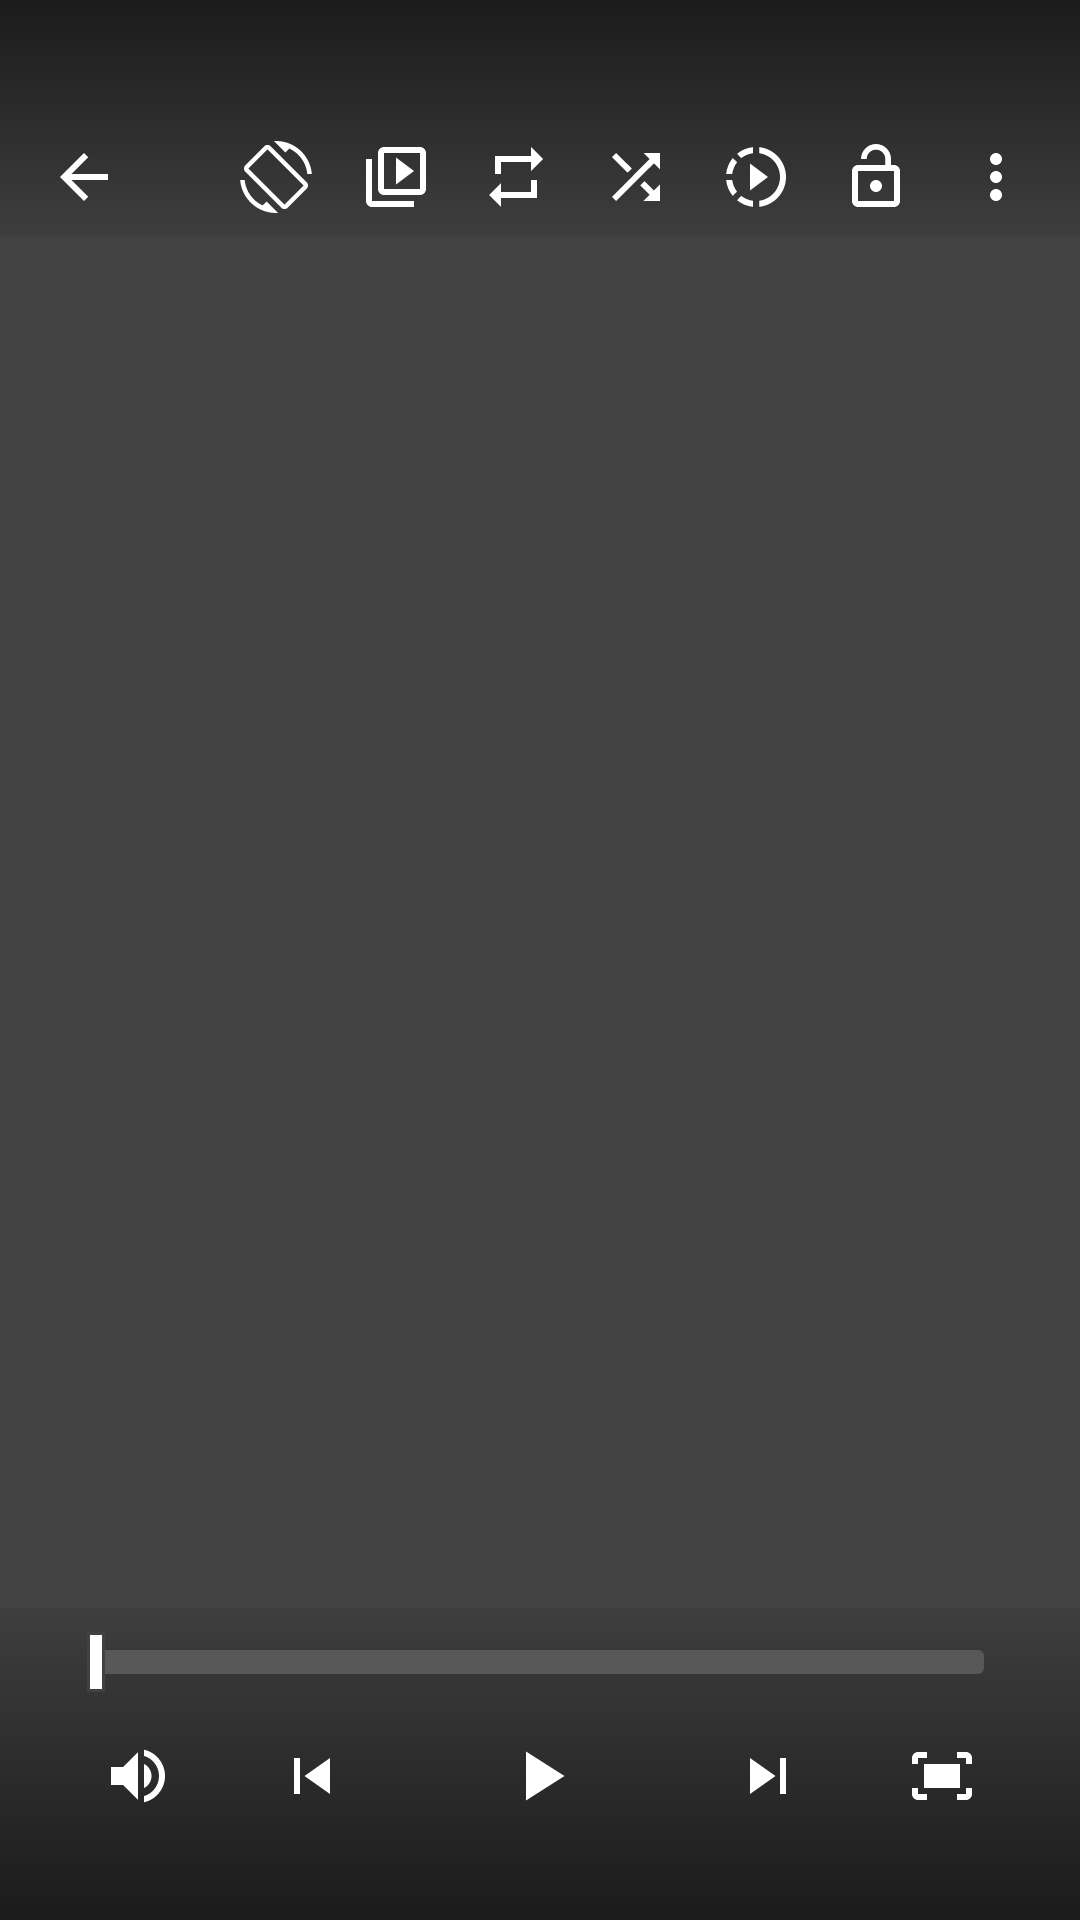

Locate icon controls on the screen. Image size 1080px x 1920px, boxes as (x1, y1, x2, y2).
Aspect Ratio: (912, 1752, 972, 1800)
Lock: (852, 144, 900, 207)
Loop: (489, 147, 543, 207)
More: (990, 153, 1002, 201)
Mute: (111, 1749, 165, 1803)
Next: (750, 1758, 786, 1794)
Orientation: (240, 141, 312, 213)
Play/Pause: (526, 1751, 565, 1801)
Previous: (294, 1758, 330, 1794)
Speed: (726, 147, 786, 207)
